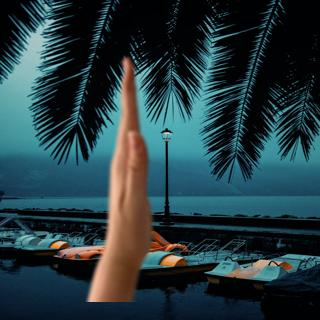Right: (90, 45, 165, 290)
